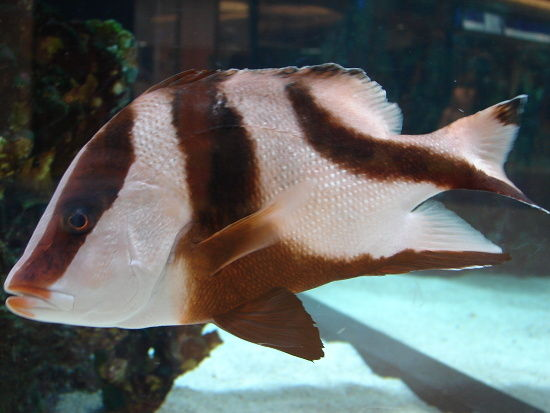fish: (2, 63, 550, 363)
